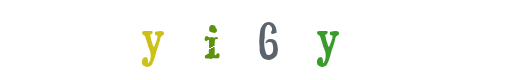6: (232, 0, 312, 80)
I: (220, 0, 300, 80)
Y: (114, 0, 194, 80), (239, 0, 319, 80)
